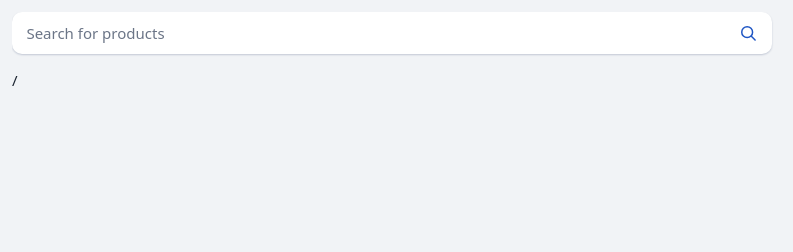
Test case: SearchBox suggestions › searches for the typed text when Enter is pressed and no row is chosen
Type "phone" into the dropdown named "Search products".
click(368, 33); type("phone")  # box [12,12,724,54]
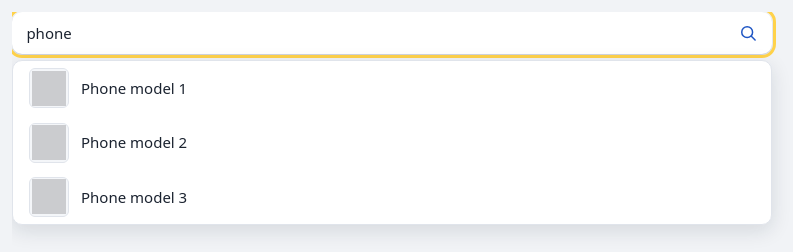
Expected: the list is shown, [29,68,187,217]
Press Enter
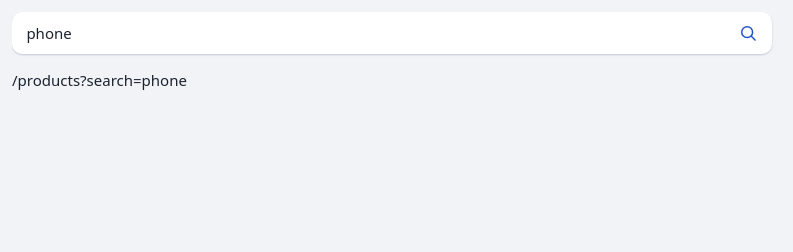
Expected: the text with test id "where" reads "/products?search=phone", [12,70,187,90]
